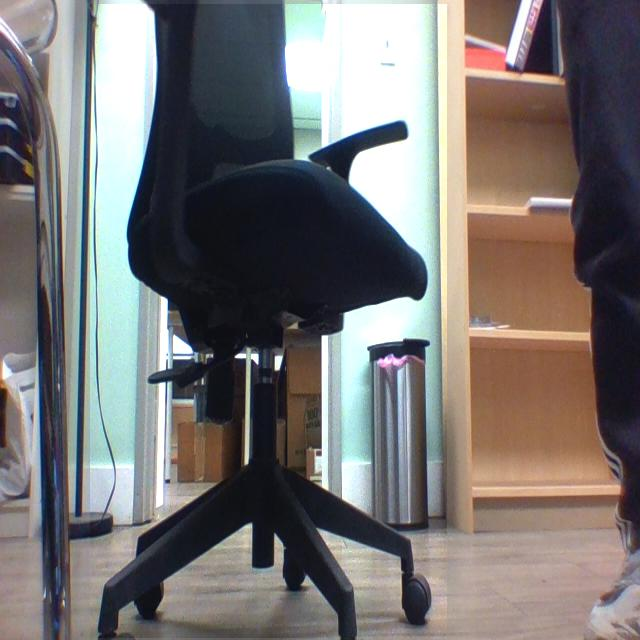black-chair: (90, 4, 448, 639)
